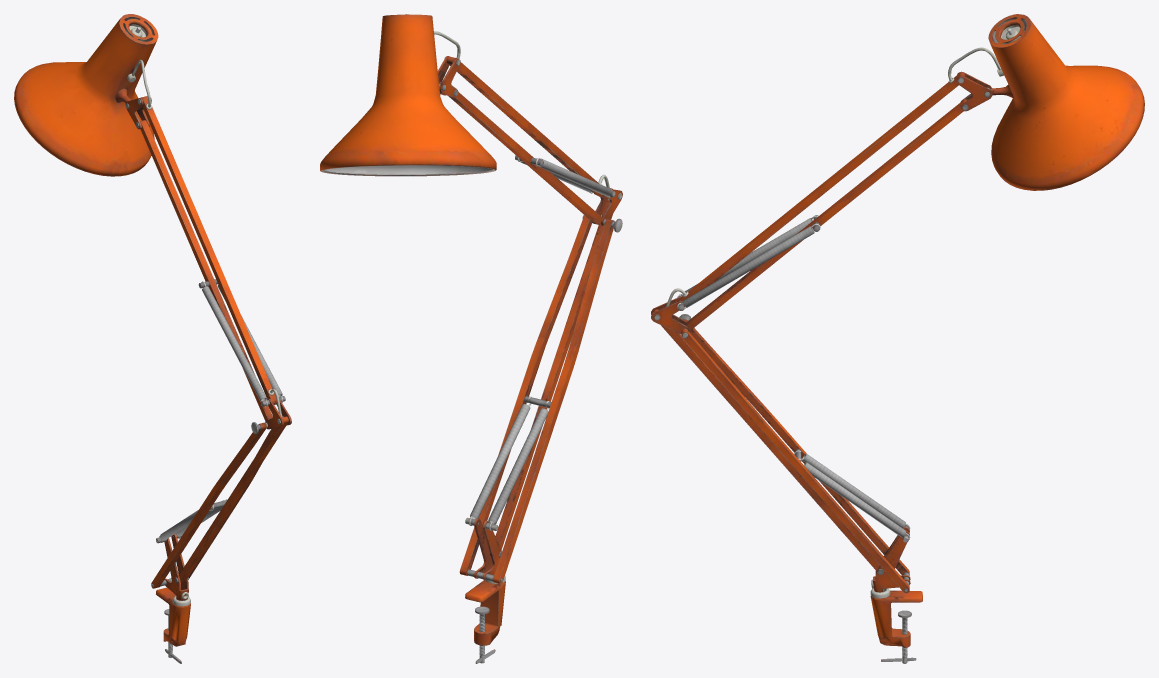
The model's file is desk_lamp.glb.
3 renders of one model, left to right at view 1: azimuth 30°, elevation 25°; view 2: azimuth 150°, elevation 25°; view 3: azimuth 270°, elevation 25°, orthographic. The views are drawn at different scales.
Parts seen in each view (by area): view 1: desk_lamp_arm_01; view 2: desk_lamp_arm_01; view 3: desk_lamp_arm_01.
Part boxes in pixels (<box>): desk_lamp_arm_01: <box>14,14,291,663</box>; desk_lamp_arm_01: <box>320,14,622,663</box>; desk_lamp_arm_01: <box>651,14,1144,663</box>.
Bounding box in the file's own units: 0.2017 × 0.8926 × 0.6139.
2 materials, 2 textured.
